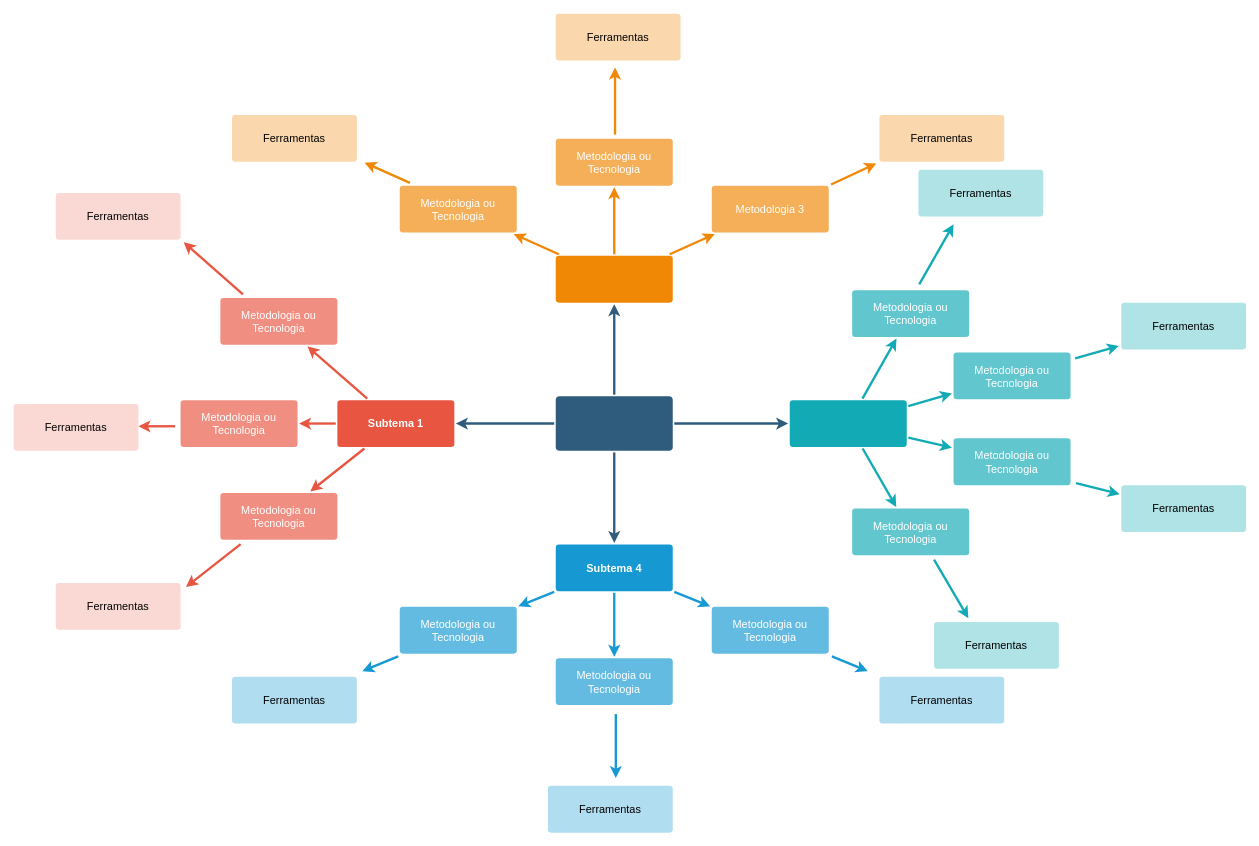
The diagram is 1259 pixels wide and 846 high, and some of its shapes have lost their labels. The centre of each missing label's shape, as x and y in pixels:
"SubTema 2" belongs at pixel 847 423.
"Subtema 3" belongs at pixel 613 278.
"Tema" belongs at pixel 613 423.
